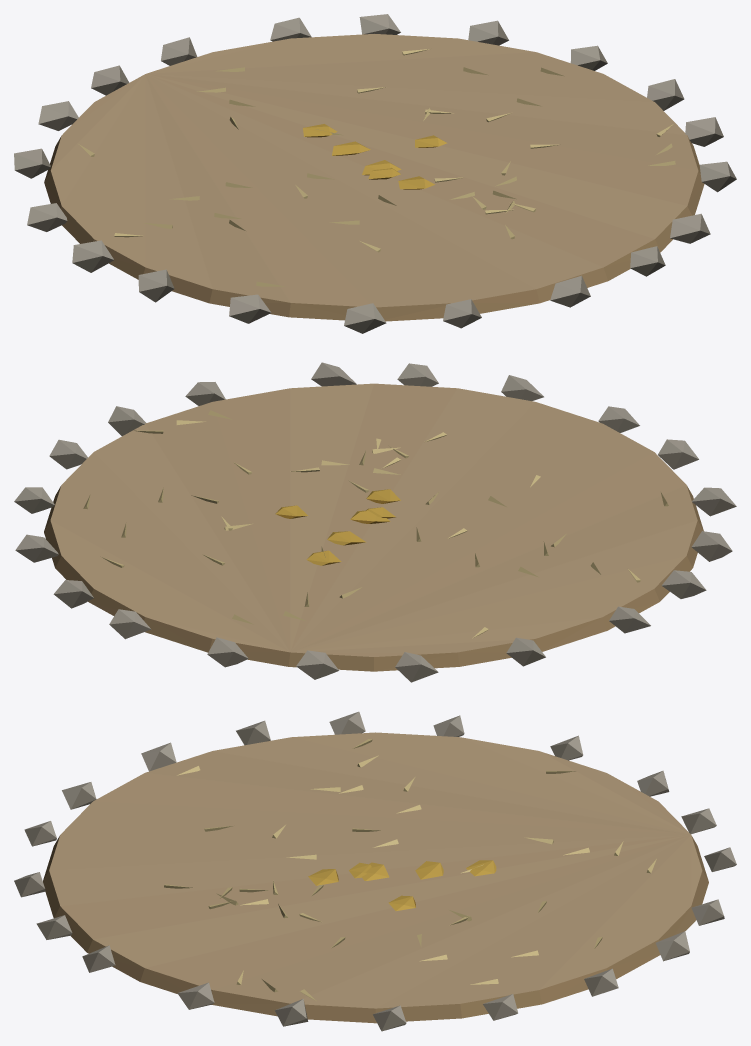
The model's file is threshingfloor.glb.
The picture shows the model from 3 angles, top to bottom: view 1: azimuth 30°, elevation 25°; view 2: azimuth 150°, elevation 25°; view 3: azimuth 270°, elevation 25°; orthographic projection.
Parts seen in each view (by area): view 1: base; view 2: base; view 3: base.
Boxes of the visible parts, x1,y1,x2,y2 form: base: (14, 14, 736, 333); base: (14, 362, 736, 682); base: (14, 711, 736, 1031).
Bounding box in the file's own units: 1.67 × 0.0687 × 1.65.
